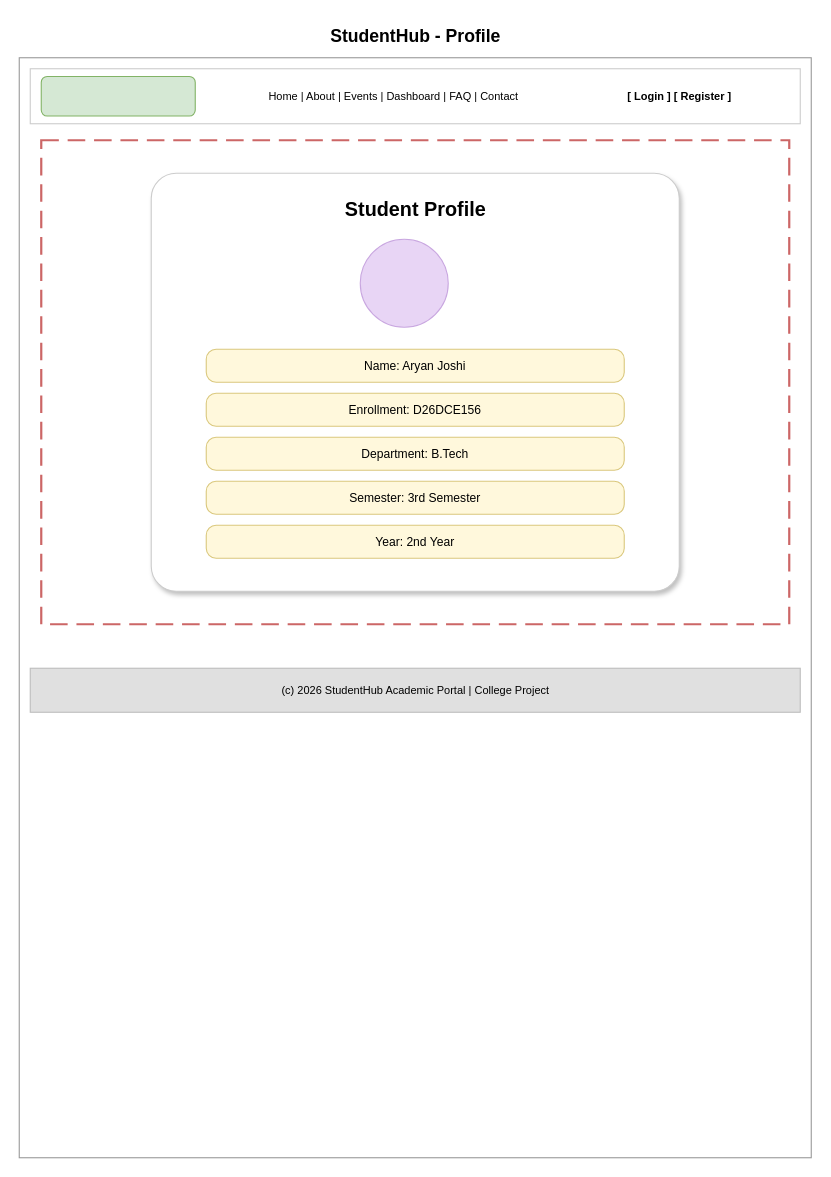
The diagram is 831 pixels wide and 1177 high, and some of its shapes have lost their labels. Each missing label, with the centre of its shape:
"[ Avatar ]" belongs at point (403, 282).
"[ Logo ] StudentHub" belongs at point (117, 95).
